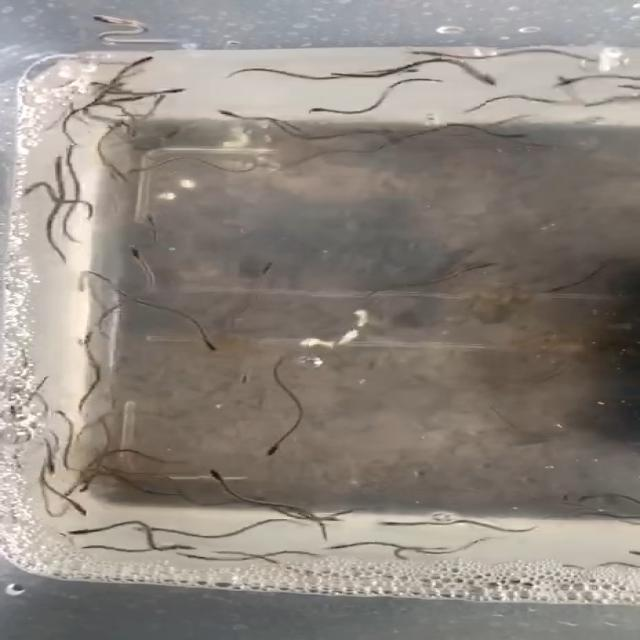inactive_glass_eel: (448, 258, 514, 278), (204, 108, 270, 126), (57, 491, 96, 519), (260, 433, 294, 458), (490, 123, 536, 141), (33, 450, 62, 476), (68, 522, 112, 539), (136, 208, 164, 234), (408, 47, 462, 60), (212, 462, 239, 488), (375, 514, 425, 528), (120, 54, 161, 71), (85, 12, 128, 28), (324, 538, 362, 556), (255, 260, 281, 286), (543, 280, 588, 295), (468, 67, 498, 88), (235, 364, 261, 388), (550, 75, 596, 88), (128, 242, 152, 265), (166, 551, 212, 563), (76, 327, 105, 346), (59, 141, 81, 166), (136, 522, 170, 538), (315, 105, 353, 119), (382, 62, 420, 76), (149, 85, 194, 96), (201, 328, 220, 354), (430, 106, 474, 117), (9, 186, 37, 202), (54, 152, 72, 175)
